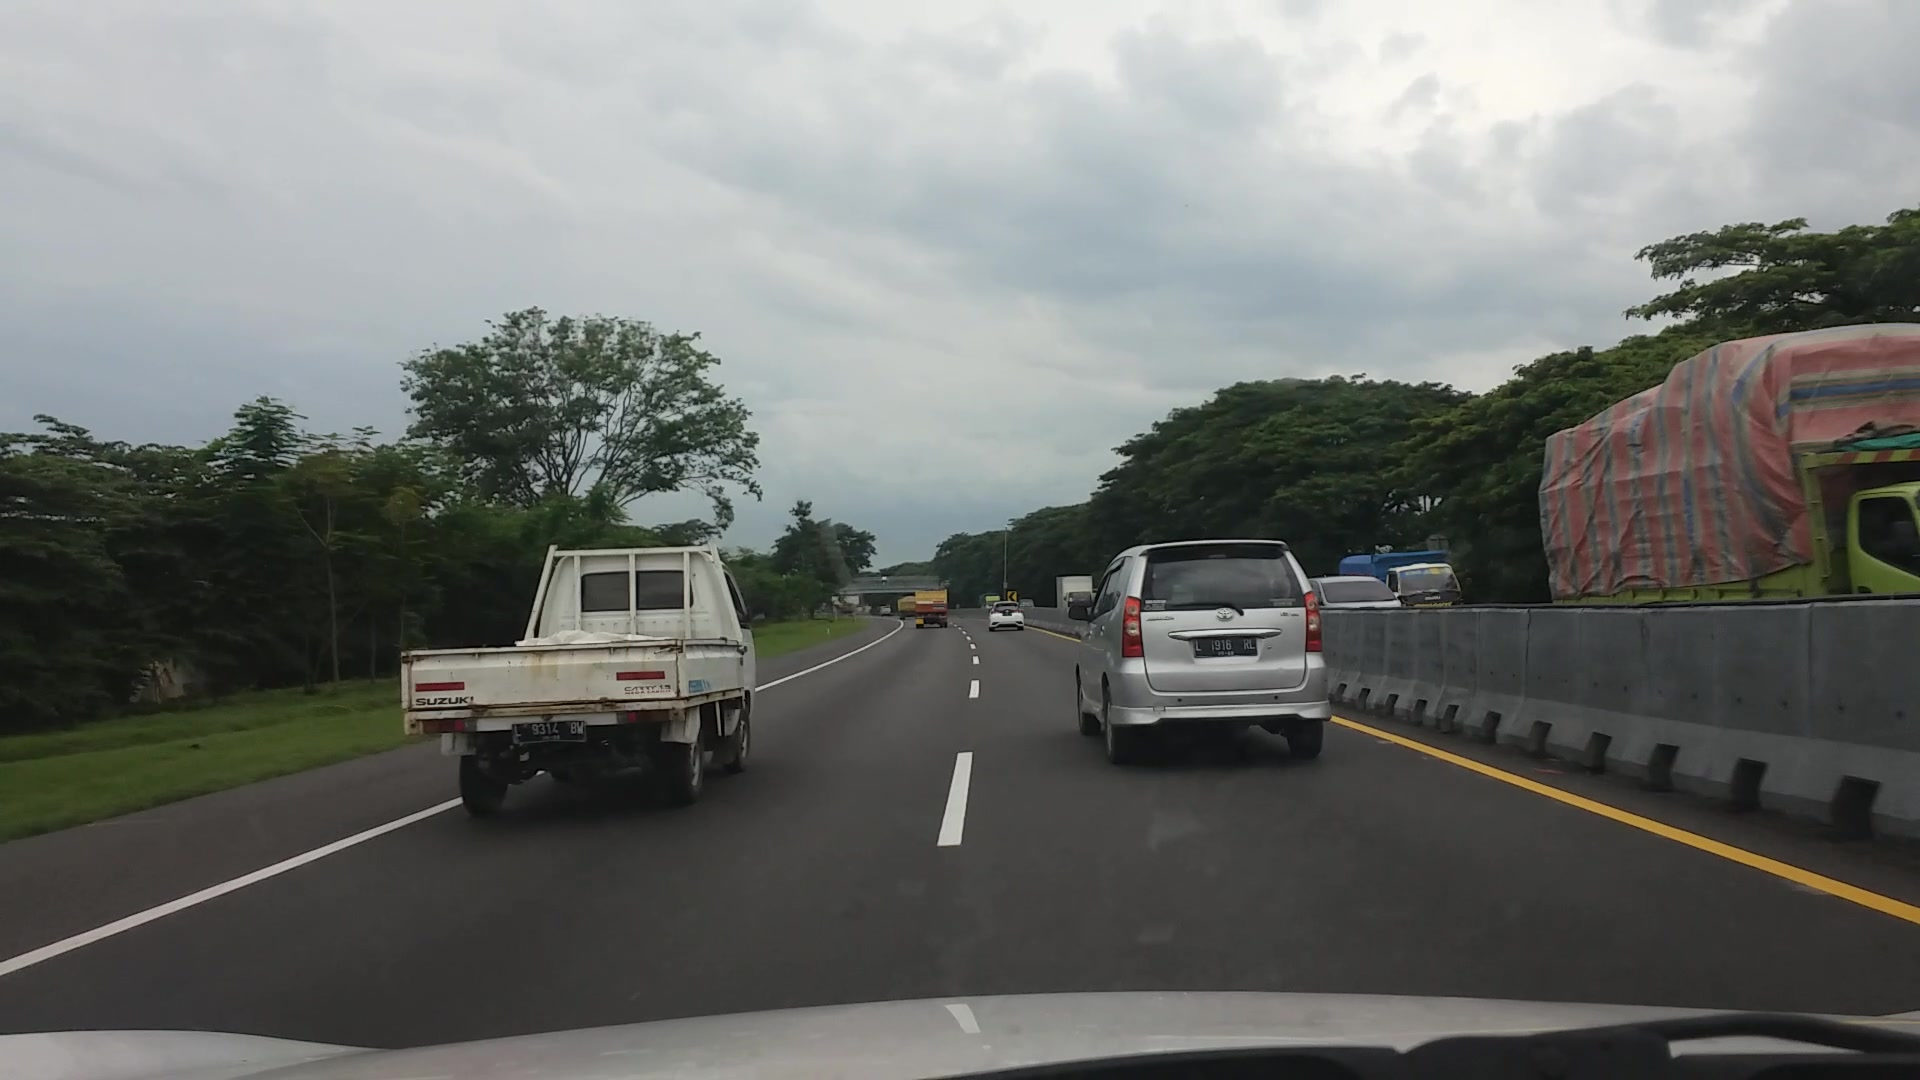plate_positive: (512, 721, 587, 742), (1193, 636, 1257, 658)
